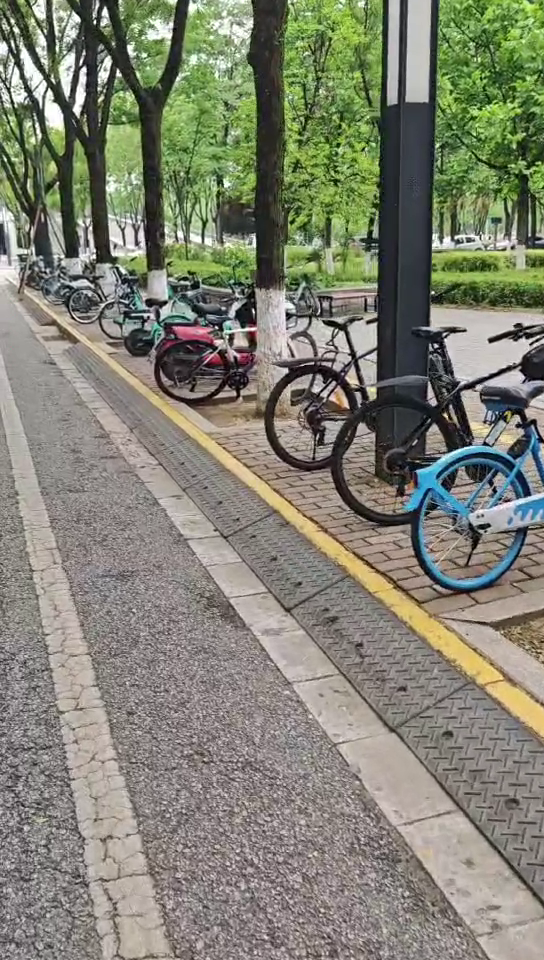others: (343, 319, 544, 501), (276, 303, 476, 462), (162, 313, 329, 388)
shared_bike_haluo: (412, 337, 544, 583)
shared_bike_qingcong: (103, 258, 219, 343)
